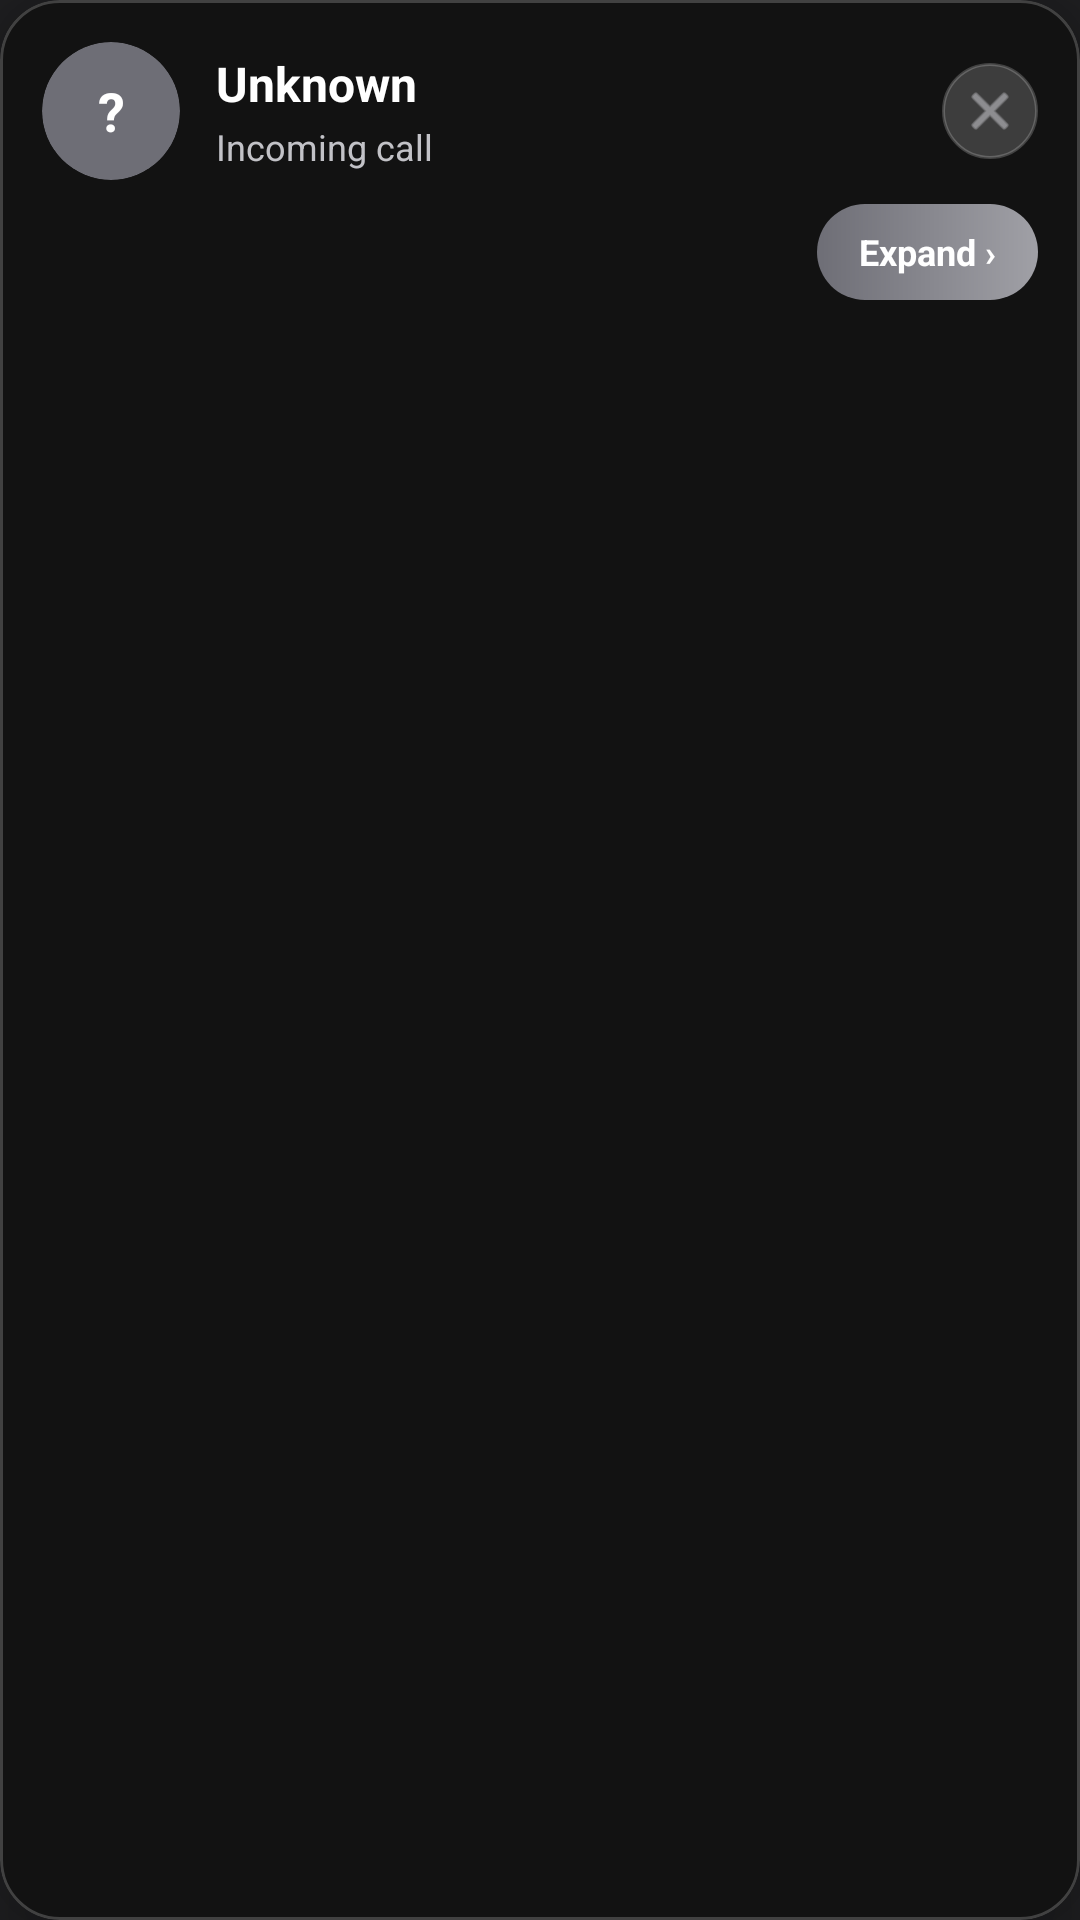

Where to tap for icons on this 1080x1920 app screen, as point (x, y):
Dismiss: point (990, 111)
